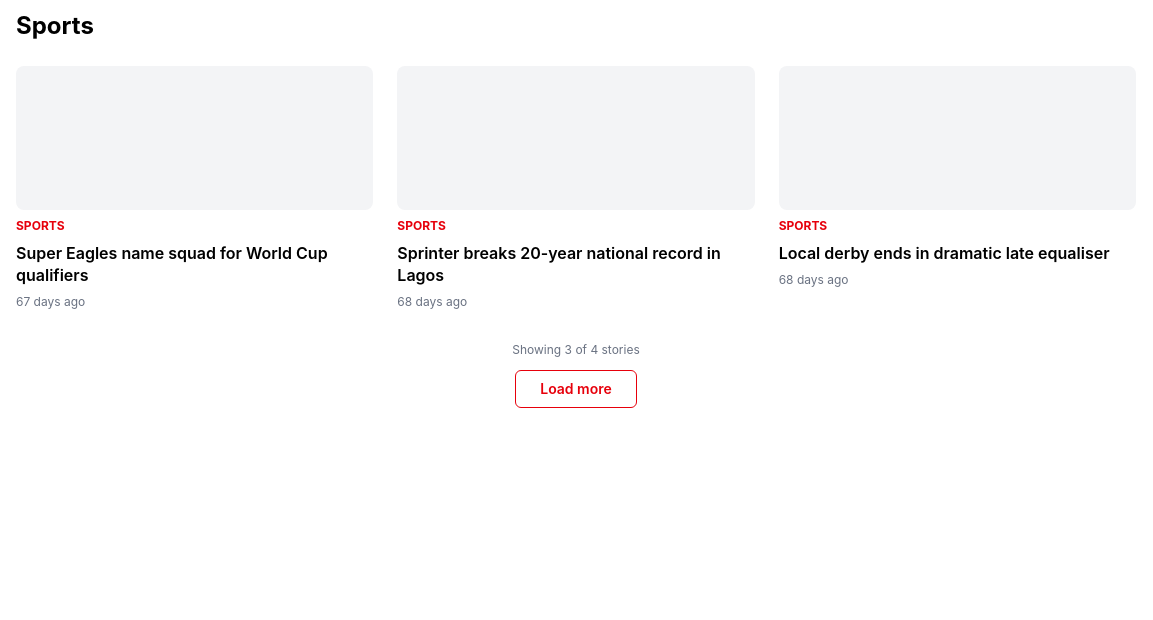
Test case: CategoryPage › reveals the rest and hides the button after Load more is clicked
The image size is (1153, 620).
Check: the link "Super Eagles name squad for World Cup qualifiers" is shown, box [16, 243, 328, 285]
Click the button "Load more": (576,389) [515, 370, 637, 408]
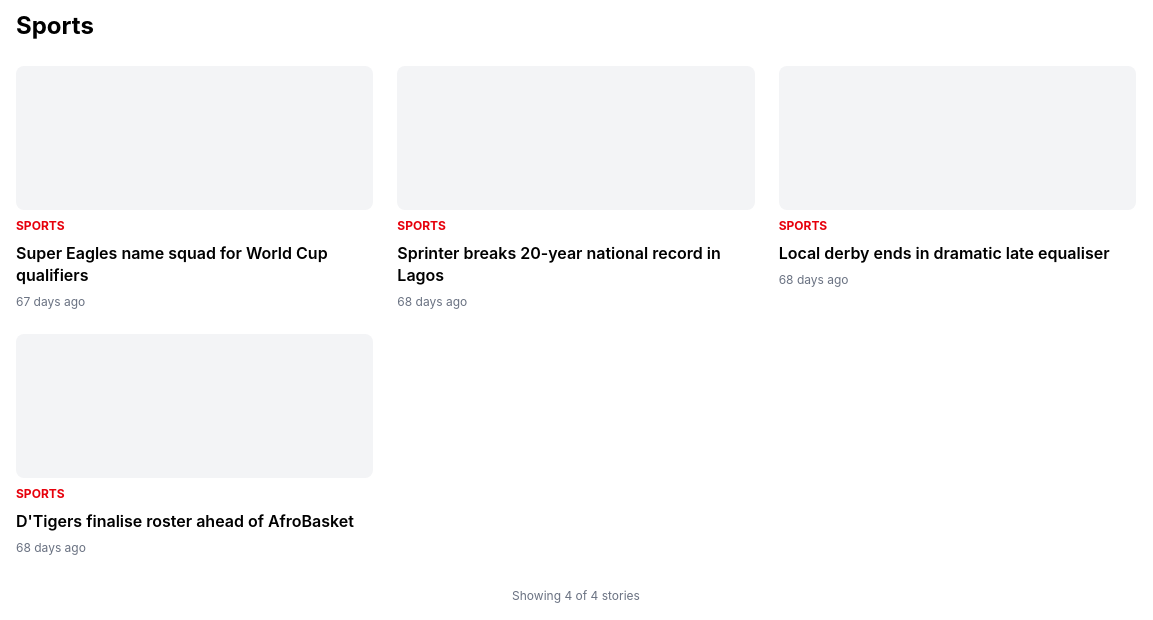
Check: the link "D'Tigers finalise roster ahead of AfroBasket" is shown, box [16, 511, 354, 531]
Check: the text "Showing 4 of 4 stories" is shown, box [512, 588, 640, 603]
Check: the button "Load more" is gone
